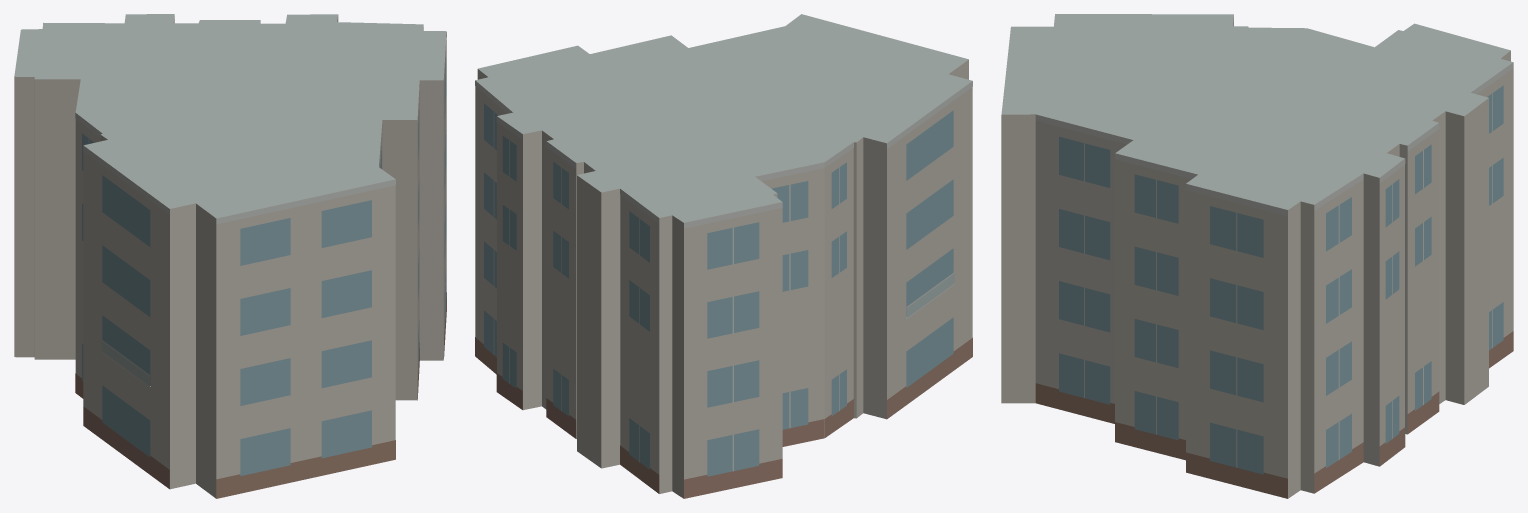
Rendered from survey-upis-32680041.glb.
The picture shows the model from 3 angles, left to right: view 1: azimuth 30°, elevation 25°; view 2: azimuth 150°, elevation 25°; view 3: azimuth 270°, elevation 25°; orthographic projection. The views are drawn at different scales.
Parts seen in each view (by area): view 1: survey-upis-32680041.tmp; view 2: survey-upis-32680041.tmp; view 3: survey-upis-32680041.tmp.
Boxes of the visible parts, <box> form: survey-upis-32680041.tmp: <box>14,14,446,498</box>; survey-upis-32680041.tmp: <box>475,14,972,498</box>; survey-upis-32680041.tmp: <box>1001,14,1513,498</box>.
Bounding box in the file's own units: 16.85 × 11.55 × 18.57.
